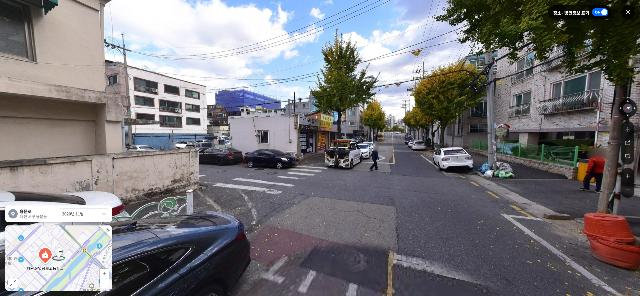ginkgo: (363, 100, 386, 142)
other: (427, 0, 640, 215), (308, 28, 381, 140), (403, 55, 486, 149)
